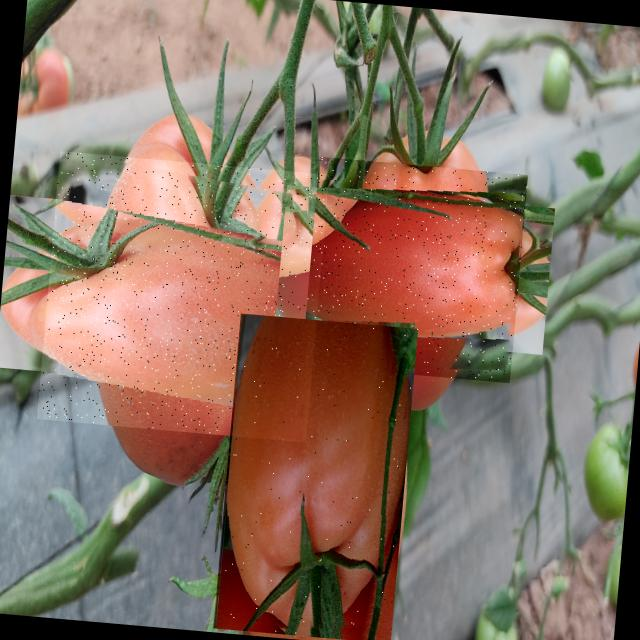Ripe Tomato: (36, 150, 328, 442), (212, 313, 417, 640), (302, 156, 528, 382)
